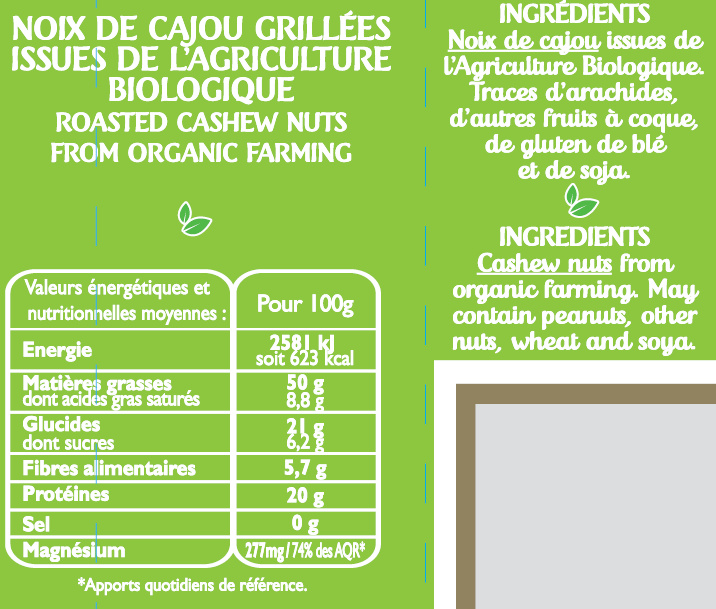column: (19, 270, 225, 571), (241, 269, 369, 571)
table: (4, 268, 384, 571)
